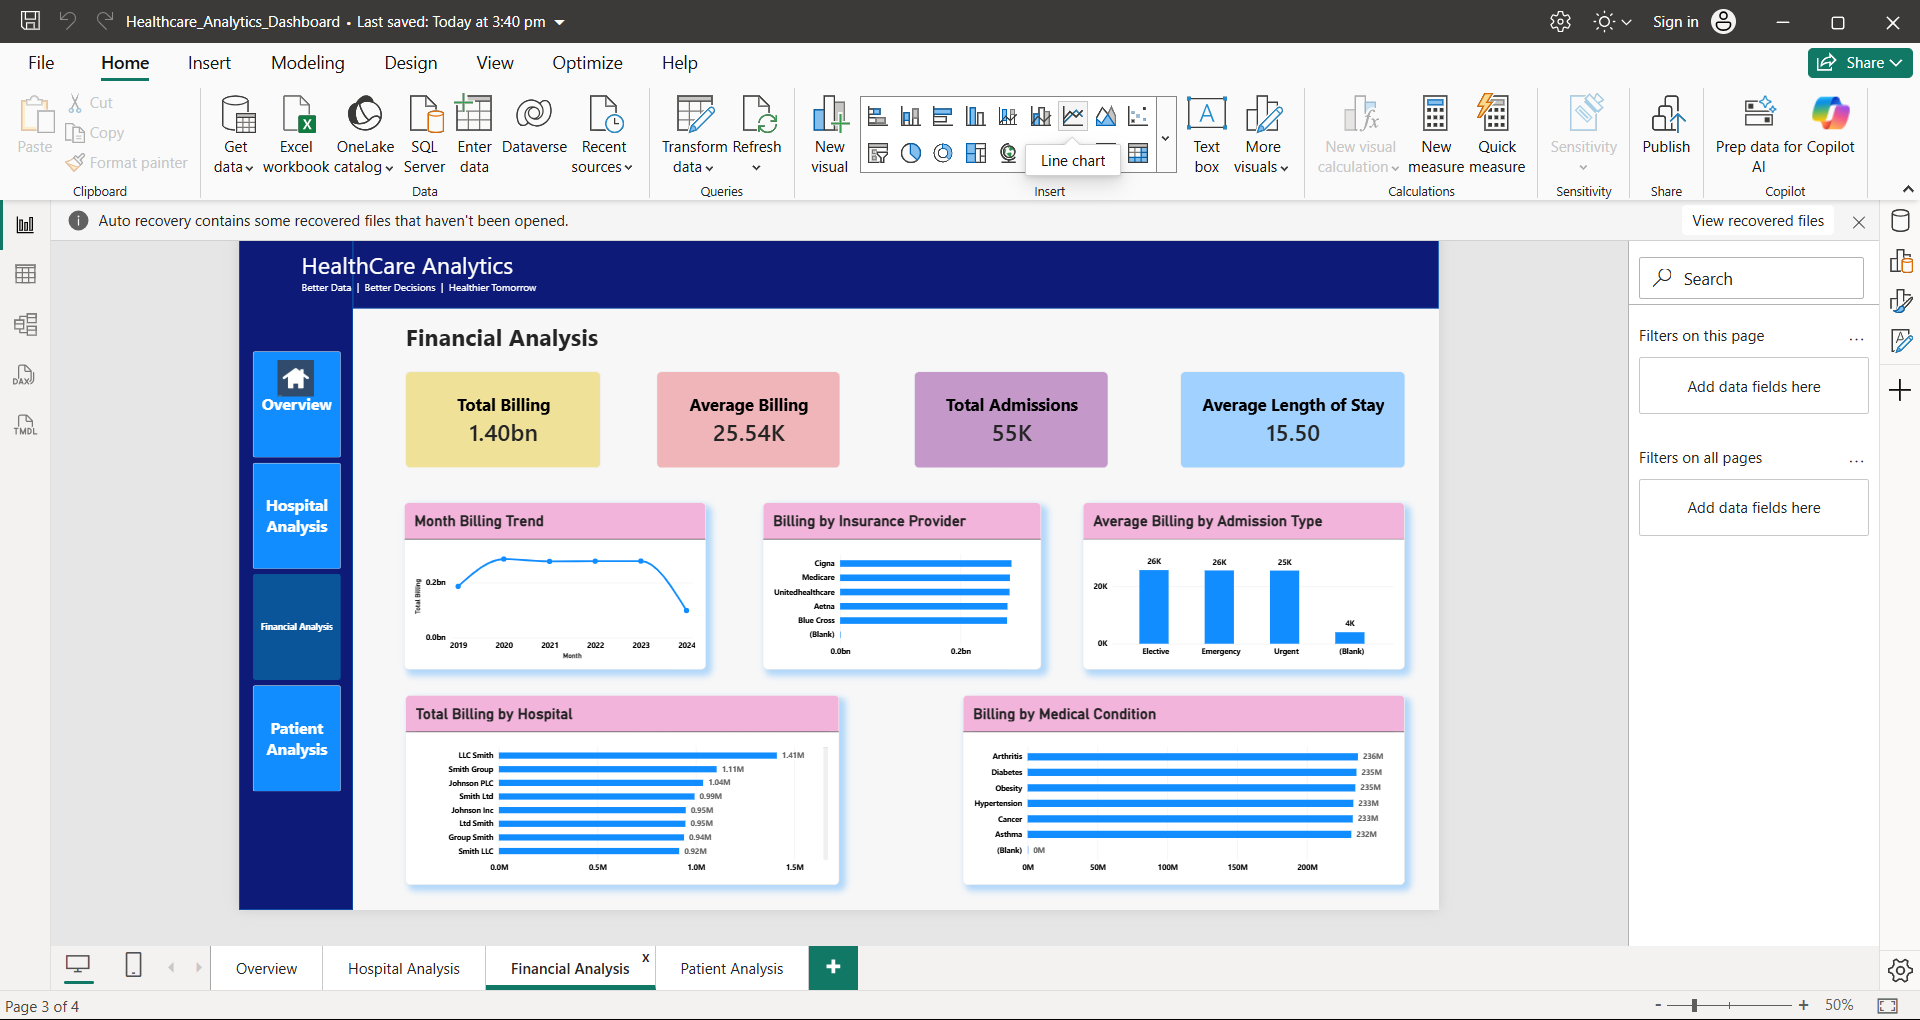

This screenshot's page, from the dashboard's own definition file:
{"tool":"powerbi","page":{"name":"Financial Analysis","canvas":[1920,1080],"ordinal":2},"visuals":[{"type":"shape","box":[0,0,182.5,1080],"z":0},{"type":"shape","box":[182.5,0,1737.5,117.5],"z":5000},{"type":"textbox","box":[100,22.5,387.5,50],"z":6000},{"type":"textbox","box":[100,72.5,412.5,45],"z":7000},{"type":"cardVisual","fields":{"Data":["dim_AdmissionType.Total Billing"]},"box":[266.7,217.6,313.6,155.7],"z":8000},{"type":"cardVisual","fields":{"Data":["dim_AdmissionType.Average Billing"]},"box":[667.7,217.6,294.4,155.7],"z":9000},{"type":"cardVisual","fields":{"Data":["dim_AdmissionType.Total Admissions"]},"box":[1079.5,217.6,311.5,155.7],"z":10000},{"type":"cardVisual","fields":{"Data":["dim_AdmissionType.Average Length of Stay"]},"box":[1506.1,217.6,360.5,155.7],"z":11000},{"type":"lineChart","title":"Month Billing Trend","fields":{"Category":["dim_Date.Date of Admission.Variation.Date Hierarchy.Year","dim_Date.Date of Admission.Variation.Date Hierarchy.Quarter","dim_Date.Date of Admission.Variation.Date Hierarchy.Month","dim_Date.Date of Admission.Variation.Date Hierarchy.Day"],"Y":["dim_AdmissionType.Total Billing"]},"box":[264.3,427.1,483.2,267],"z":12000},{"type":"clusteredBarChart","title":"Billing by Insurance Provider","fields":{"Category":["dim_Insurance.Insurance Provider"],"Y":["dim_AdmissionType.Total Billing"]},"box":[838.3,427.1,445.8,267],"z":13000},{"type":"textbox","box":[264.5,138.7,313.6,61.9],"z":14000},{"type":"clusteredBarChart","title":"Total Billing by Hospital","fields":{"Category":["dim_Hospital.Hospital"],"Y":["dim_AdmissionType.Total Billing"]},"box":[267,736.8,694.1,304.3],"z":15000},{"type":"clusteredColumnChart","title":"Average Billing by Admission Type","fields":{"Category":["dim_AdmissionType.Admission Type"],"Y":["dim_AdmissionType.Average Billing"]},"box":[1350.9,427.1,515.2,267],"z":16000},{"type":"clusteredBarChart","title":"Billing by Medical Condition","fields":{"Category":["dim_MedicalCondition.Medical Condition"],"Y":["dim_AdmissionType.Total Billing"]},"box":[1158.6,736.8,707.5,304.3],"z":17000},{"type":"pageNavigator","box":[21.4,186.9,141.5,704.8],"z":18000},{"type":"image","box":[48.1,200.2,85.4,58.7],"z":18001}]}

Visuals, with their boxes on the page's 1920x1080 design canvas (x1, y1, x2, y2). These are canvas units, not pixel positions in the 1920x1020 screenshot, which may show the page scaled, cropped or inside an application window:
shape: x1=0, y1=0, x2=182, y2=1080
shape: x1=182, y1=0, x2=1920, y2=118
textbox: x1=100, y1=22, x2=488, y2=72
textbox: x1=100, y1=72, x2=512, y2=118
cardVisual - dim_AdmissionType.Total Billing: x1=267, y1=218, x2=580, y2=373
cardVisual - dim_AdmissionType.Average Billing: x1=668, y1=218, x2=962, y2=373
cardVisual - dim_AdmissionType.Total Admissions: x1=1080, y1=218, x2=1391, y2=373
cardVisual - dim_AdmissionType.Average Length of Stay: x1=1506, y1=218, x2=1867, y2=373
"Month Billing Trend" lineChart: x1=264, y1=427, x2=748, y2=694
"Billing by Insurance Provider" clusteredBarChart: x1=838, y1=427, x2=1284, y2=694
textbox: x1=264, y1=139, x2=578, y2=201
"Total Billing by Hospital" clusteredBarChart: x1=267, y1=737, x2=961, y2=1041
"Average Billing by Admission Type" clusteredColumnChart: x1=1351, y1=427, x2=1866, y2=694
"Billing by Medical Condition" clusteredBarChart: x1=1159, y1=737, x2=1866, y2=1041
pageNavigator: x1=21, y1=187, x2=163, y2=892
image: x1=48, y1=200, x2=134, y2=259
